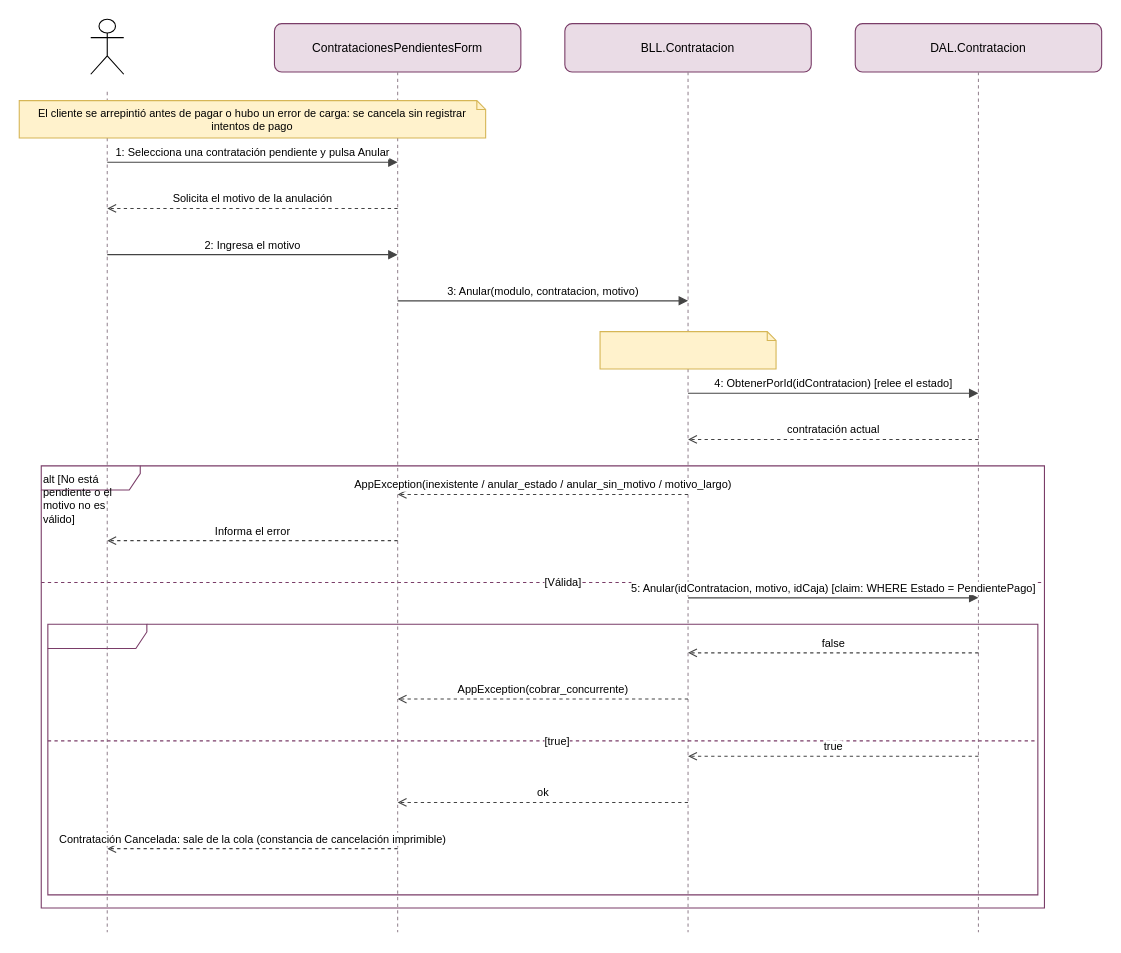
Some shapes in this 1121 by 953 pixel diagram are drawn without their labels. The centre of each missing label's shape, as x and y in pixels:
"alt [false: otra sesión ya la resolvió]" goes at point 542,759.
"Caja" goes at point 107,46.
"Exigir(CajaEditar)" goes at point 687,350.
